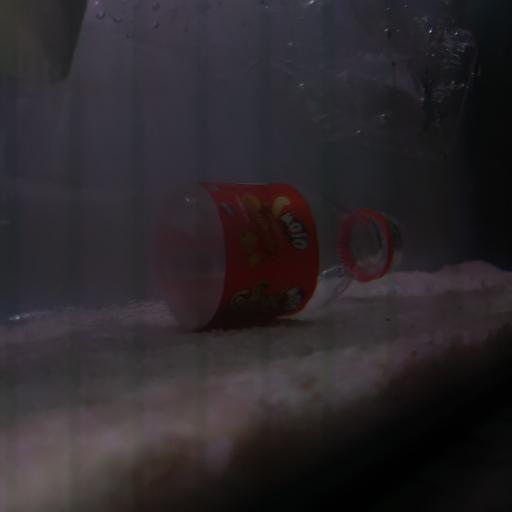mask: (0, 0, 78, 95)
plastic_bag: (91, 1, 489, 148)
plastic_bottle: (5, 183, 411, 328)
